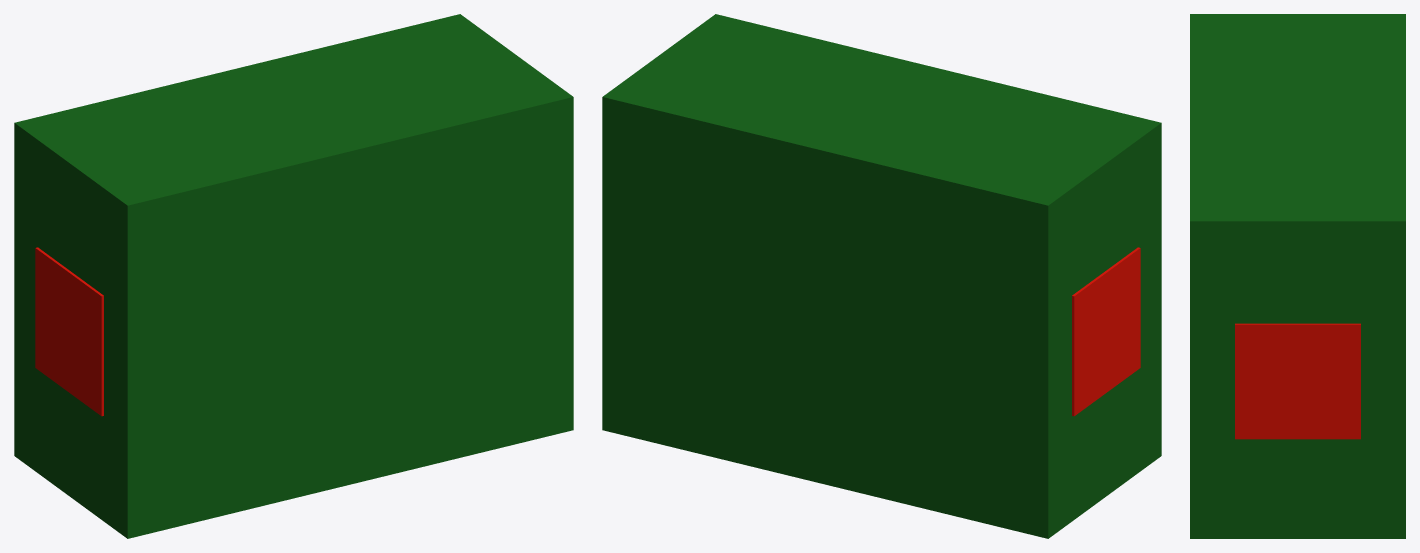
The model's file is CNC.fbx.
The picture shows the model from 3 angles, left to right: view 1: azimuth 30°, elevation 25°; view 2: azimuth 150°, elevation 25°; view 3: azimuth 270°, elevation 25°; orthographic projection. The views are drawn at different scales.
Parts seen in each view (by area): view 1: Cube.014, Cube.016; view 2: Cube.014, Cube.016; view 3: Cube.014, Cube.015.
Part boxes in pixels (box(x1,y1,x2,y2)): Cube.014: box(14, 14, 573, 538); Cube.016: box(35, 247, 103, 416); Cube.014: box(602, 14, 1161, 538); Cube.016: box(1072, 247, 1140, 416); Cube.014: box(1190, 14, 1405, 538); Cube.015: box(1235, 323, 1360, 439).
Bounding box in the file's own units: 354 × 250 × 154.
